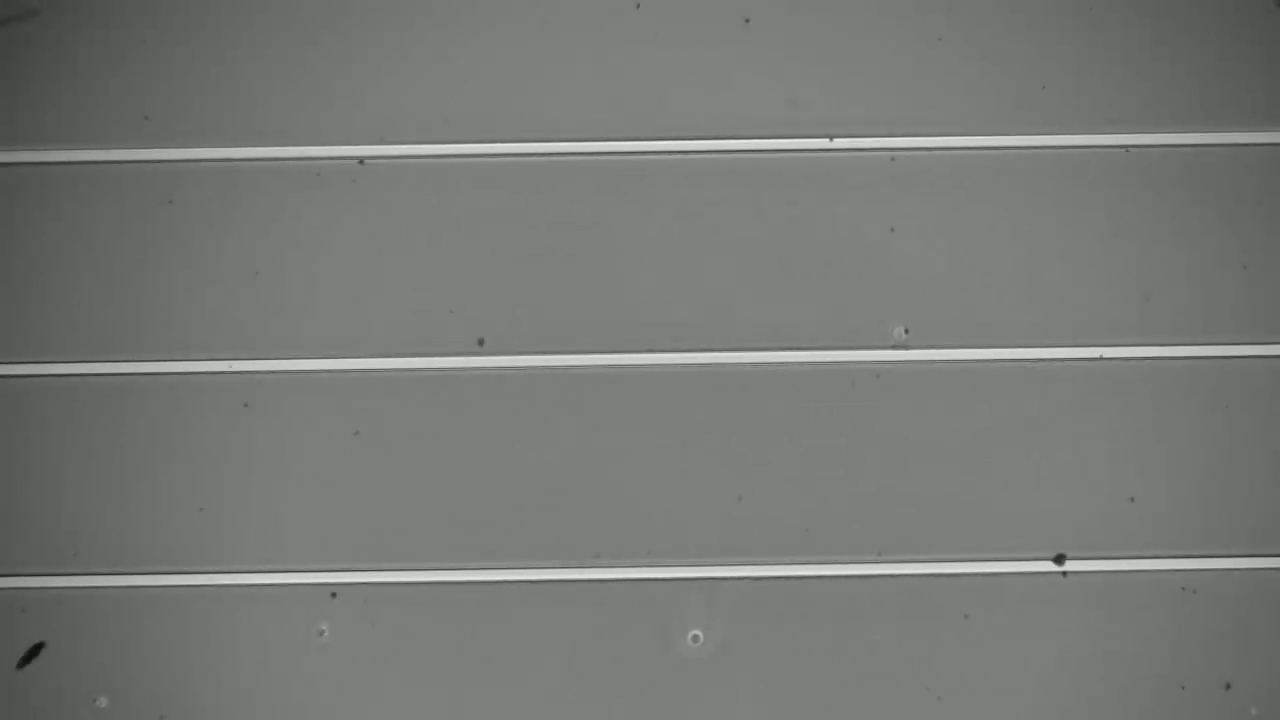stains_enbedded: (1048, 538, 1078, 584)
